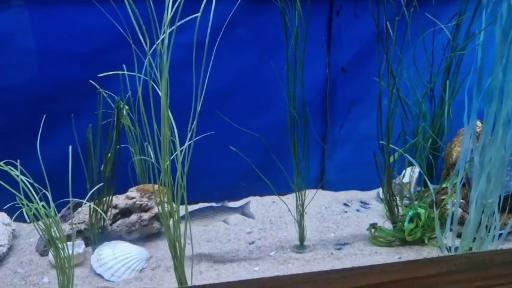Fish: (189, 201, 255, 226)
